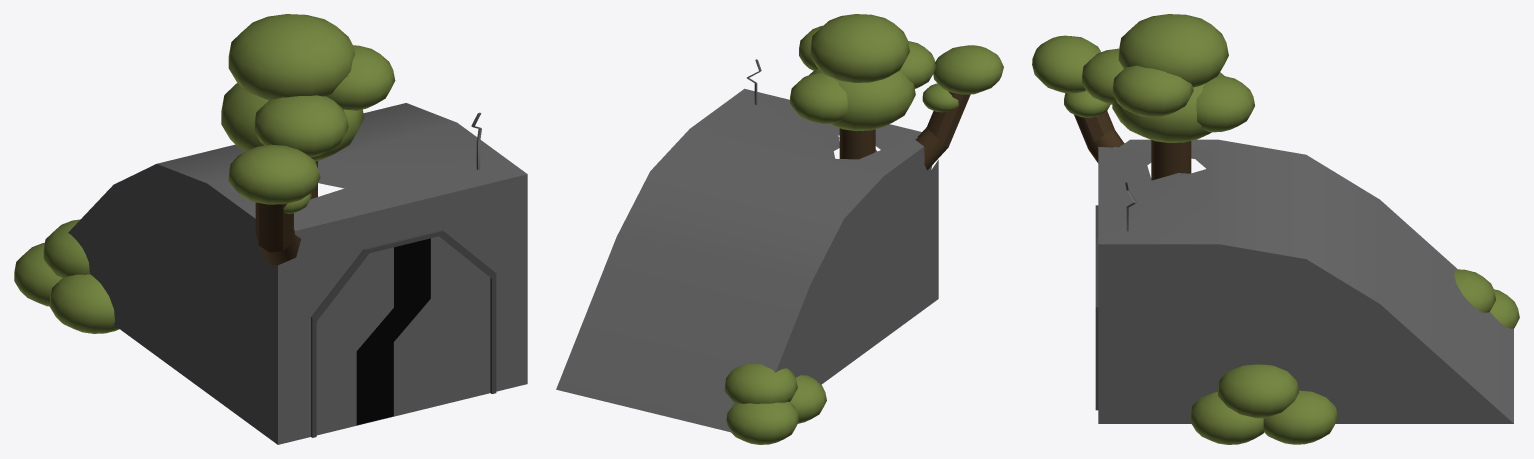
File: Ruins.glb
3 renders of one model, left to right at view 1: azimuth 30°, elevation 25°; view 2: azimuth 150°, elevation 25°; view 3: azimuth 270°, elevation 25°, orthographic. The views are drawn at different scales.
Parts seen in each view (by area): view 1: Box001; view 2: Box001; view 3: Box001.
Boxes of the visible parts, x1=… form: Box001: x1=14, y1=14, x2=527, y2=444; Box001: x1=556, y1=14, x2=1003, y2=444; Box001: x1=1032, y1=14, x2=1519, y2=444.
Size of the model in its own units: 151 by 159 by 207.
